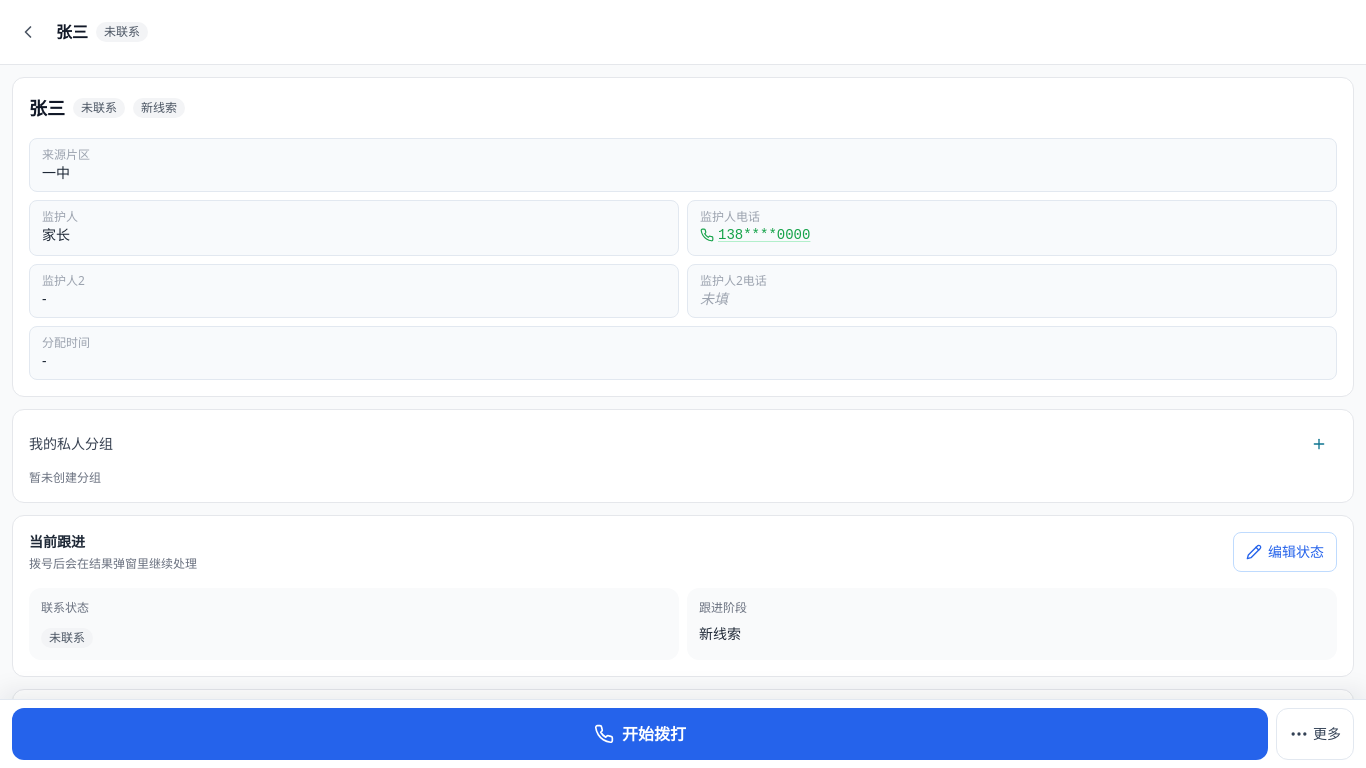
Test: MobileStudentDetail follow-up workflow › shows the required operator result buttons on the mobile detail page
This screenshot has width=1366, height=768.
Expected: the text "完整时间线" is shown, [29,706,123,725]
Expected: the element "处理结果" is not shown
Click the button "编辑状态": (1285, 552) [1233,532,1337,572]
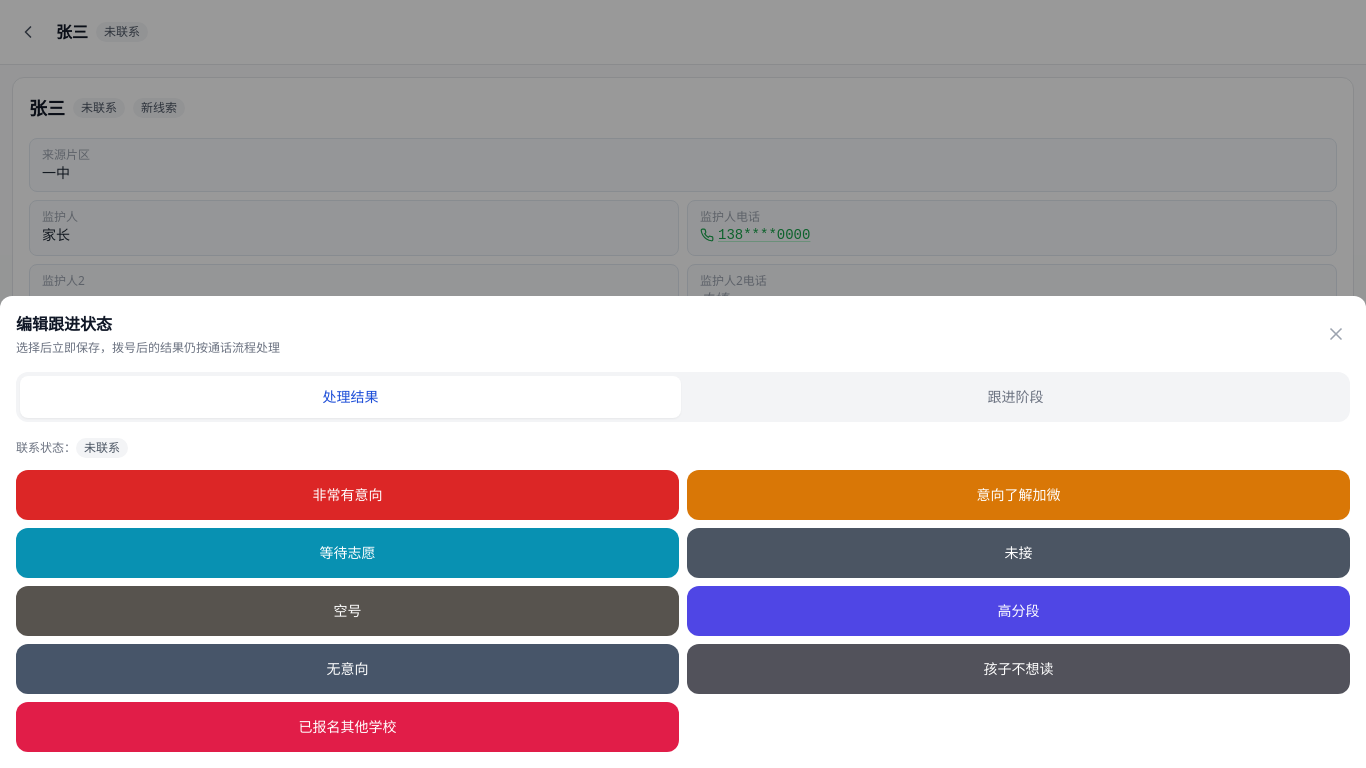
Expected: the button "非常有意向" is shown, [16,470,679,520]
Expected: the button "意向了解加微" is shown, [687,470,1350,520]
Expected: the button "等待志愿" is shown, [16,528,679,578]
